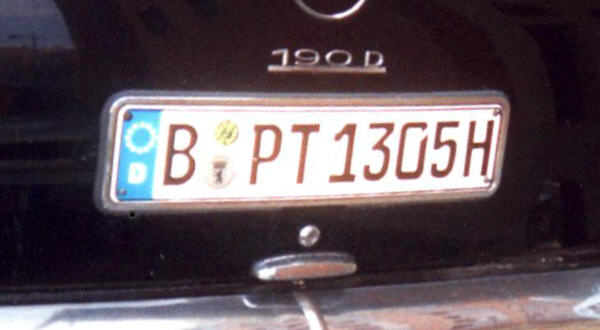license_plate: (108, 102, 505, 205)
